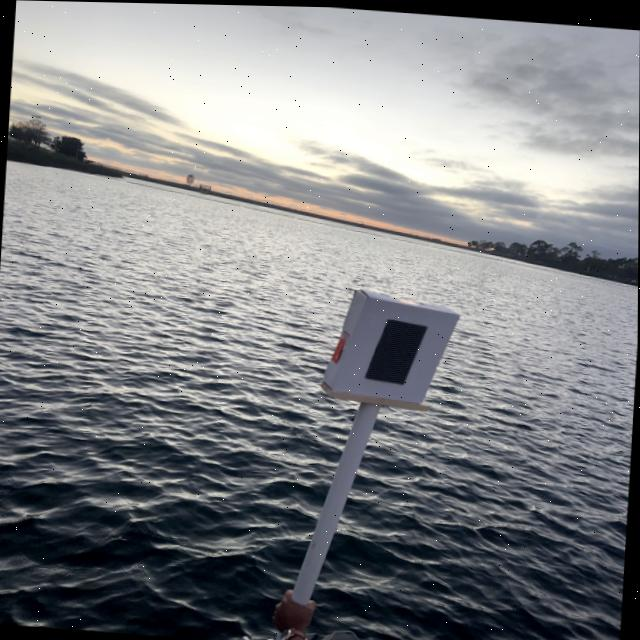led: (357, 305, 437, 406)
